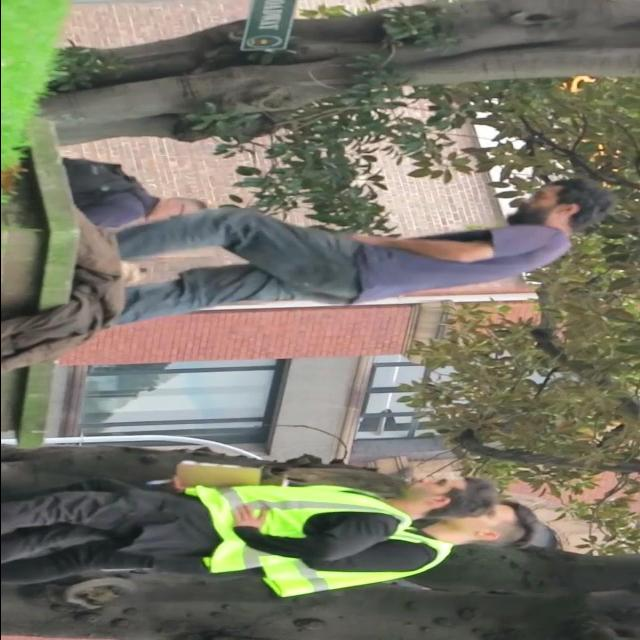jacket: (177, 470, 409, 577)
